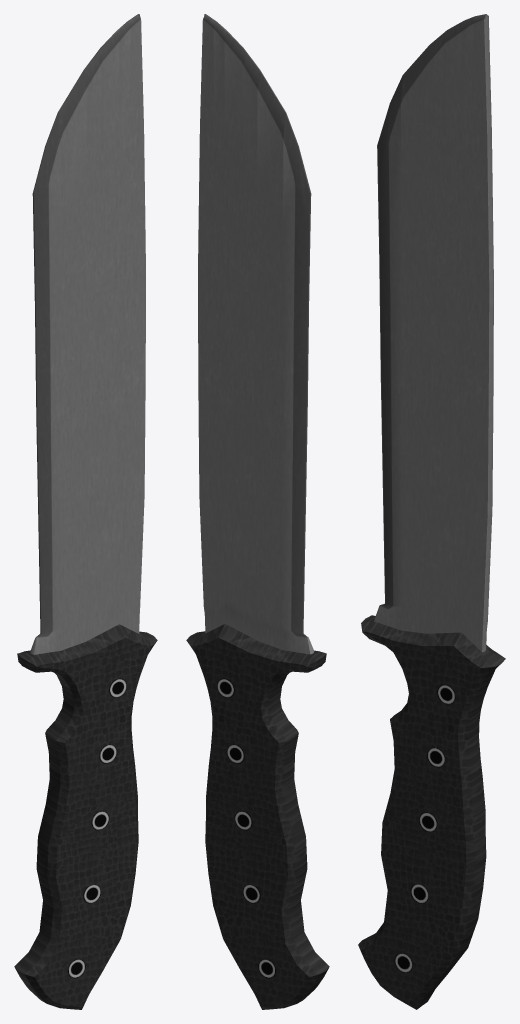
The model's file is Machete.fbx.
The picture shows the model from 3 angles, left to right: view 1: azimuth 30°, elevation 25°; view 2: azimuth 150°, elevation 25°; view 3: azimuth 330°, elevation 25°; orthographic projection. The views are drawn at different scales.
Visible parts, largest first — view 1: Machete; view 2: Machete; view 3: Machete.
Boxes of the visible parts, x1=… form: Machete: x1=14, y1=14, x2=157, y2=1009; Machete: x1=186, y1=14, x2=329, y2=1009; Machete: x1=358, y1=14, x2=505, y2=1009.
Size of the model in its own units: 0.0965 by 0.6635 by 0.0224.
